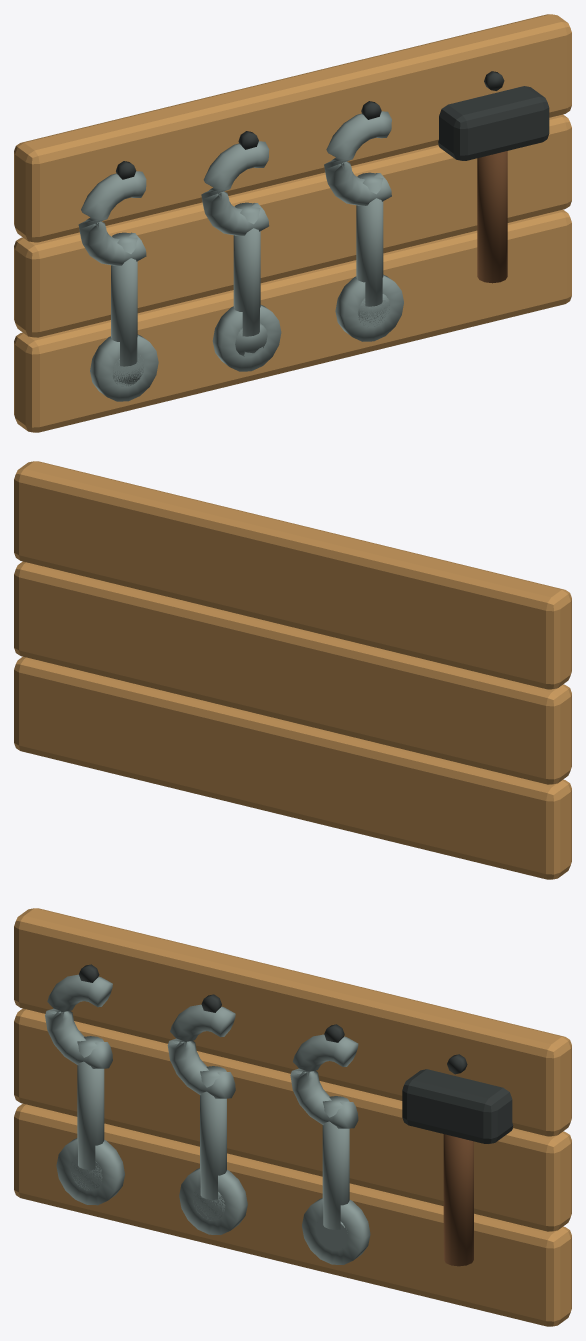
The model's file is 20_tool_rack.glb.
3 views of the same model, one above another, from view 1: azimuth 30°, elevation 25°; view 2: azimuth 150°, elevation 25°; view 3: azimuth 330°, elevation 25° (orthographic).
Visible parts, largest first — view 1: Rack backboard.005, Rack backboard.003, Rack backboard.004, Hammer head.001, Hammer handle.001, Wrench jaw.003, Wrench jaw.004, Wrench jaw.005, Wrench ring.005, Wrench ring.004, Wrench ring.003, Wrench handle.005 (+2 smaller); view 2: Rack backboard.005, Rack backboard.003, Rack backboard.004; view 3: Rack backboard.005, Rack backboard.003, Rack backboard.004, Hammer head.001, Hammer handle.001, Wrench jaw.004, Wrench jaw.005, Wrench jaw.003, Wrench ring.005, Wrench ring.003, Wrench ring.004, Wrench handle.005 (+2 smaller).
Boxes of the visible parts, bbox=[...] form: Rack backboard.005: bbox=[14, 14, 571, 242]; Rack backboard.003: bbox=[14, 209, 571, 432]; Rack backboard.004: bbox=[14, 114, 571, 337]; Hammer head.001: bbox=[438, 86, 549, 160]; Hammer handle.001: bbox=[477, 151, 507, 283]; Wrench jaw.003: bbox=[78, 171, 146, 265]; Wrench jaw.004: bbox=[201, 141, 269, 235]; Wrench jaw.005: bbox=[324, 111, 391, 205]; Wrench ring.005: bbox=[335, 274, 403, 341]; Wrench ring.004: bbox=[212, 305, 281, 371]; Wrench ring.003: bbox=[90, 334, 158, 401]; Wrench handle.005: bbox=[356, 172, 383, 306]; Rack backboard.005: bbox=[14, 461, 571, 689]; Rack backboard.003: bbox=[14, 656, 571, 879]; Rack backboard.004: bbox=[14, 561, 571, 784]; Rack backboard.005: bbox=[14, 908, 571, 1136]; Rack backboard.003: bbox=[14, 1103, 571, 1326]; Rack backboard.004: bbox=[14, 1008, 571, 1231]; Hammer head.001: bbox=[402, 1069, 513, 1143]; Hammer handle.001: bbox=[443, 1134, 473, 1266]; Wrench jaw.004: bbox=[167, 1004, 235, 1098]; Wrench jaw.005: bbox=[290, 1034, 358, 1128]; Wrench jaw.003: bbox=[45, 974, 112, 1068]; Wrench ring.005: bbox=[302, 1198, 370, 1264]; Wrench ring.003: bbox=[56, 1138, 124, 1205]; Wrench ring.004: bbox=[179, 1168, 247, 1234]; Wrench handle.005: bbox=[322, 1096, 349, 1229].
Size of the model in its own units: 1.5 by 0.742 by 0.195.
